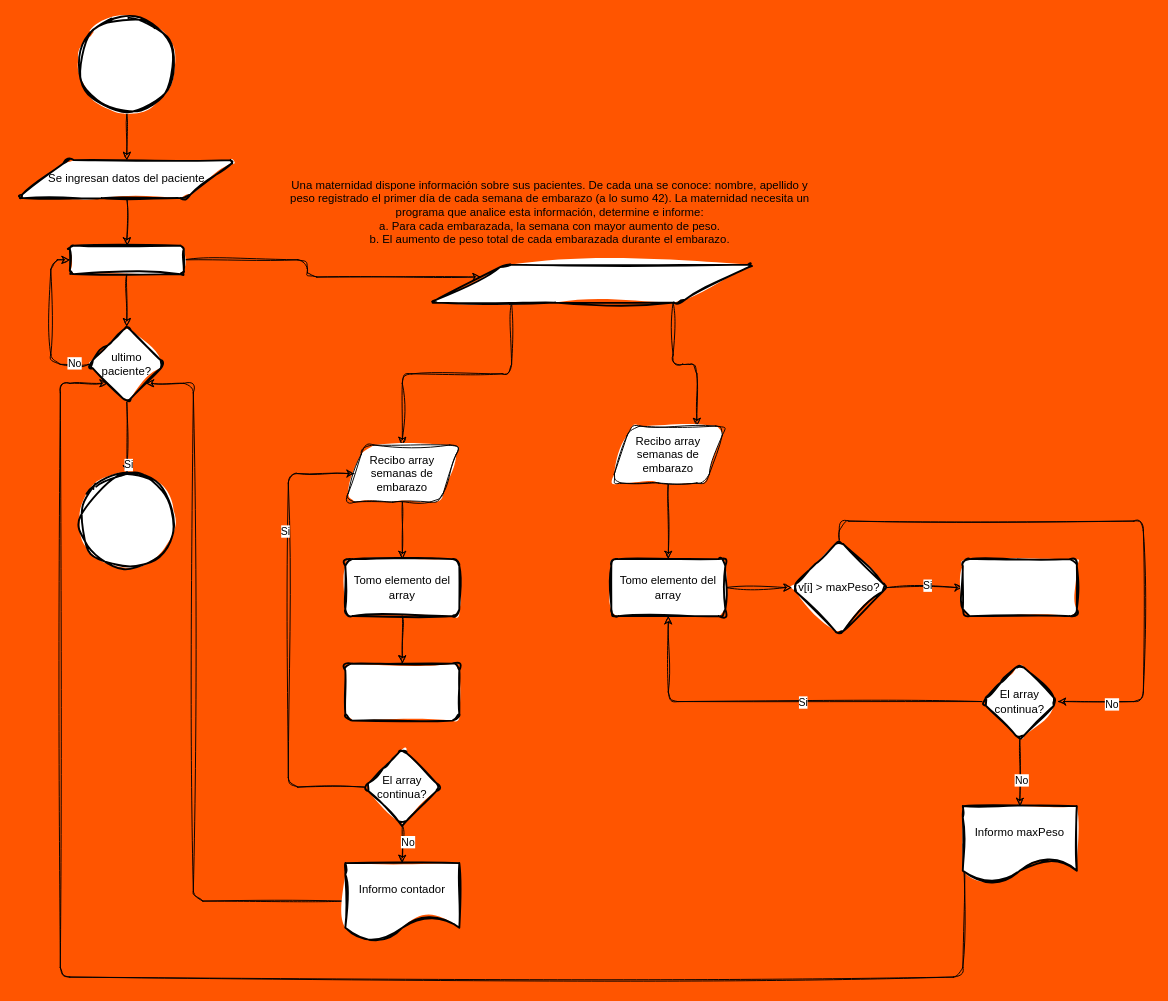
Some shapes in this 1168 by 1001 pixel diagram are drawn without their labels. Each missing label, with the centre of its shape:
Fin: the point at 126,520
Inicio: the point at 126,64
Remplazo maxPeso x v[i] actual: the point at 1019,587
Se envian semanas de embarazo del paciente: the point at 591,283
Se leen datos del paciente: the point at 126,259
Sumo el elemento del array a un contador: the point at 402,691
